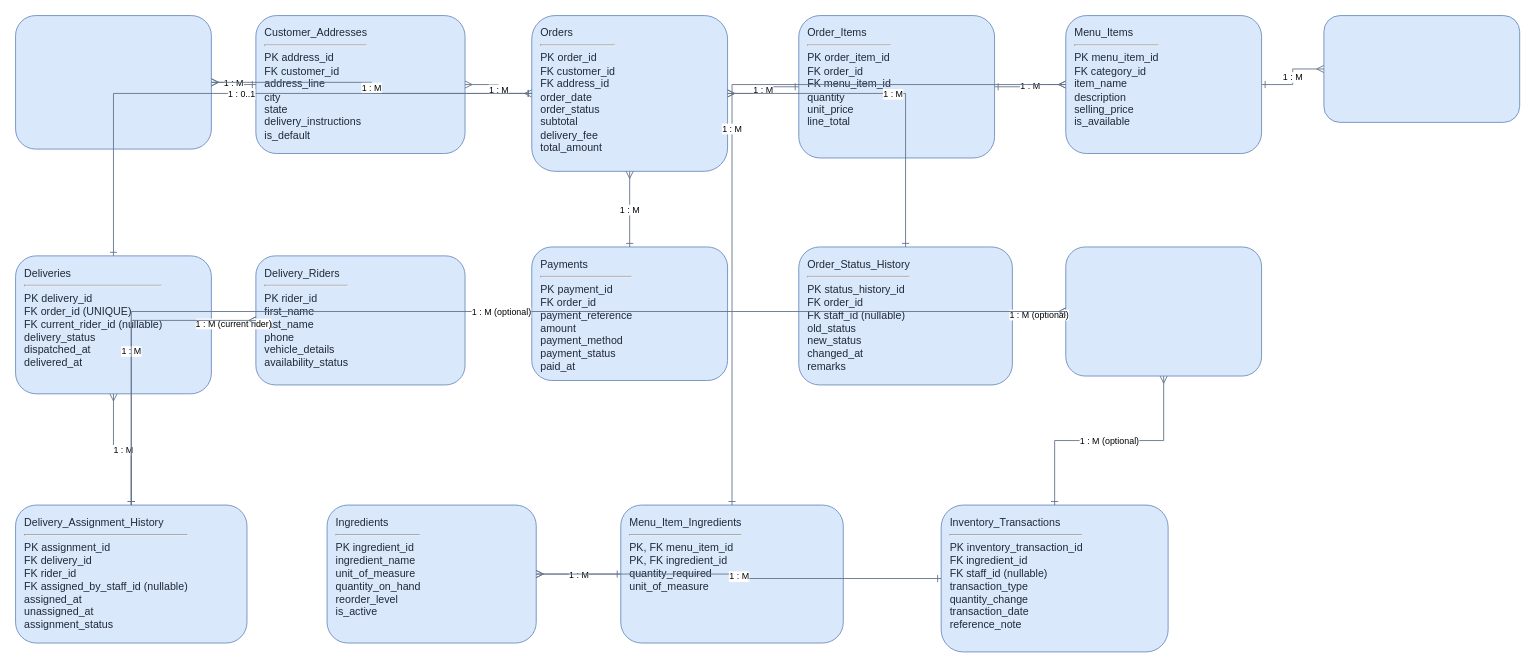
Image size: 1535x668. Some labels were removed from this diagram. The shapes that lost their labels are listed below. From the top down, each one's box as (x1, y1, x2, y2) in pixels, then its label:
(15, 15, 211, 149): Customers PK customer_id first_name last_name phone email created_at
(1323, 15, 1520, 122): Food_Categories PK category_id category_name description
(1065, 246, 1262, 376): Staff PK staff_id first_name last_name role phone email
